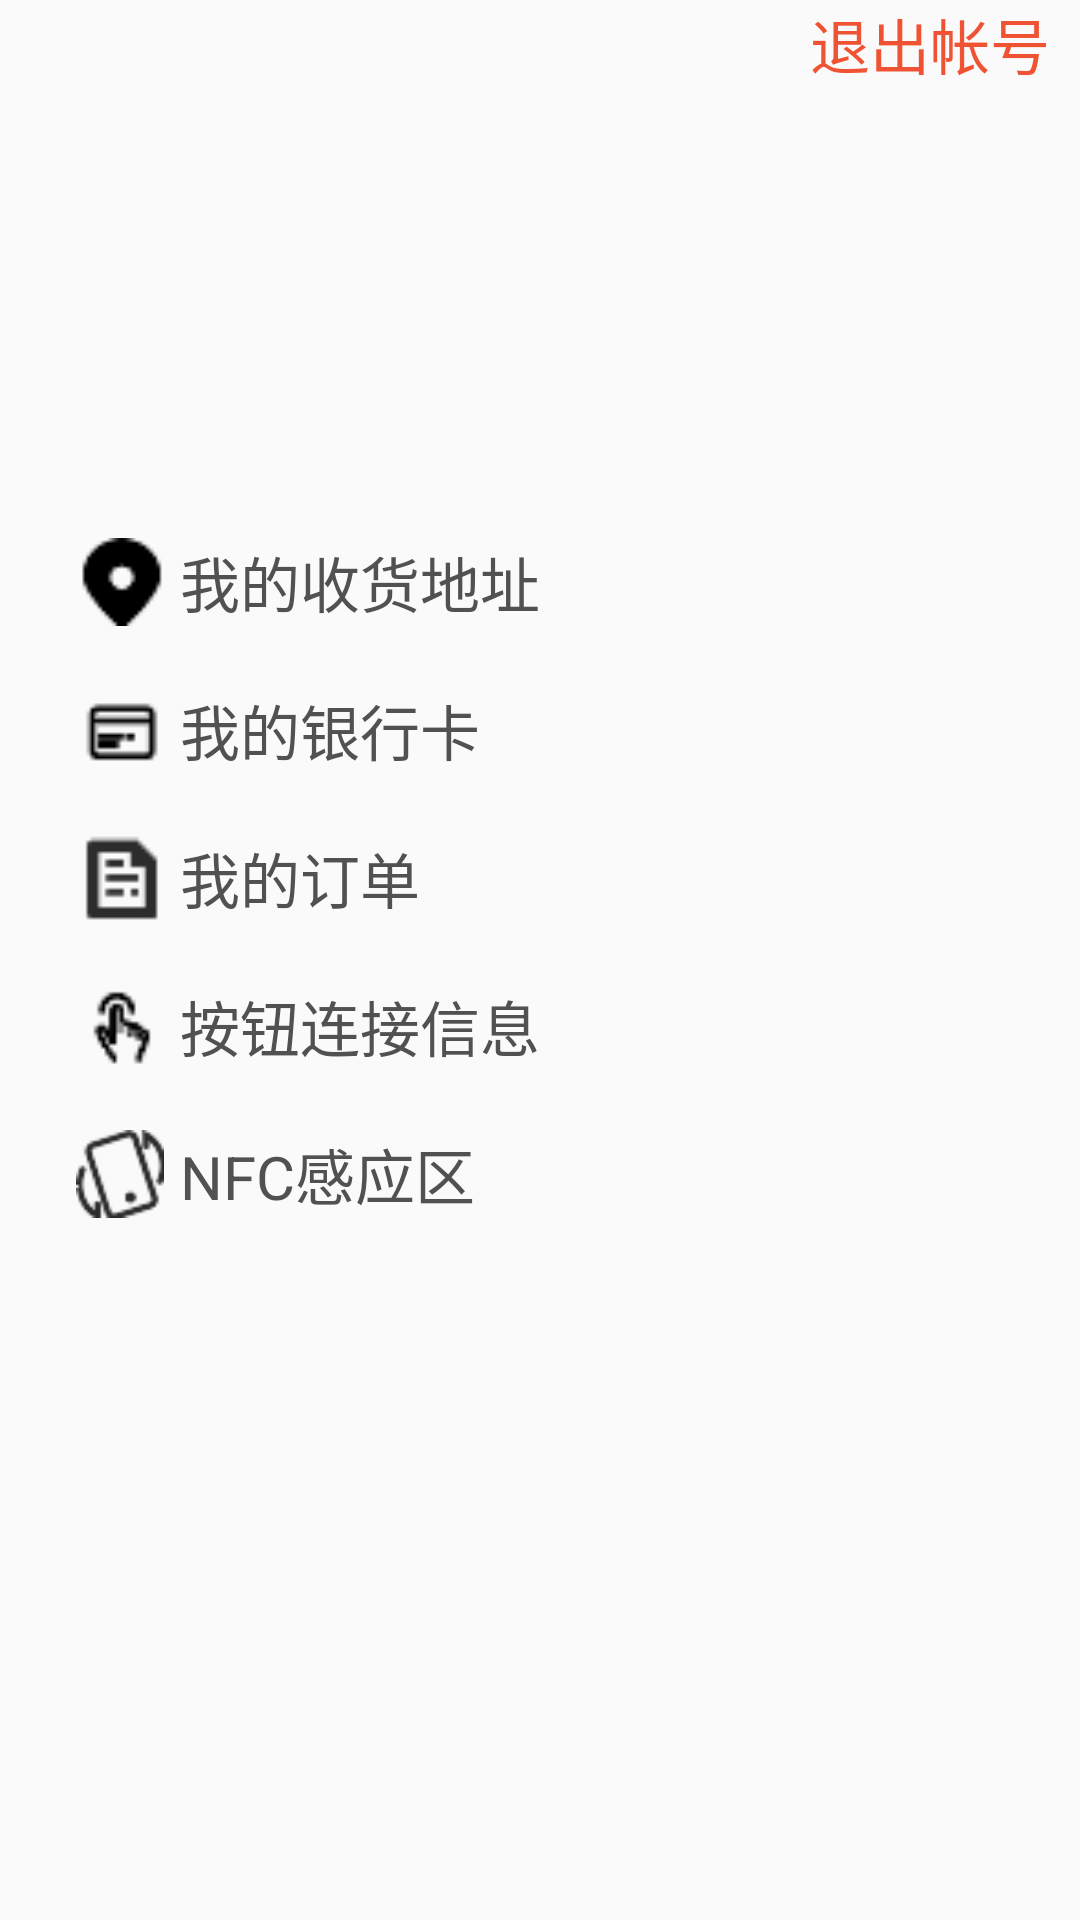

Where icons sit on this 1080 x 1920 app screen, as Rect(x1, y1, x2, y2):
buyer address: Rect(82, 538, 162, 626)
buyer card: Rect(86, 703, 158, 761)
buyer order: Rect(86, 837, 158, 920)
connect nfc: Rect(76, 1130, 164, 1218)
